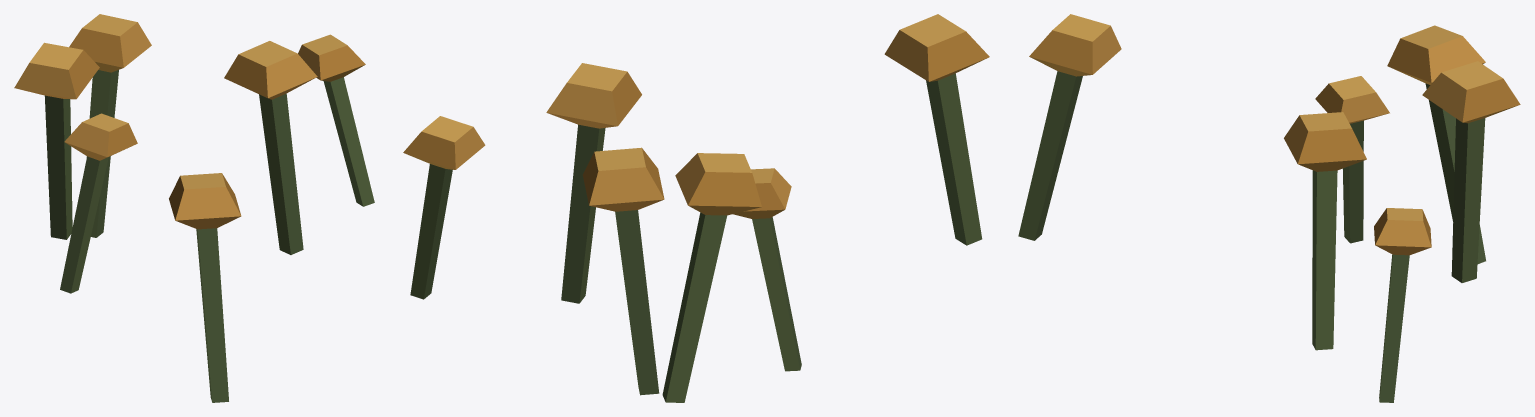
File: SF_Env_Elven_Flower_04.fbx
3 renders of one model, left to right at view 1: azimuth 30°, elevation 25°; view 2: azimuth 150°, elevation 25°; view 3: azimuth 270°, elevation 25°, orthographic. The views are drawn at different scales.
Parts seen in each view (by area): view 1: SF_Env_Elven_Flower_04; view 2: SF_Env_Elven_Flower_04; view 3: SF_Env_Elven_Flower_04.
Boxes of the visible parts, <box> form: SF_Env_Elven_Flower_04: <box>14,14,374,402</box>; SF_Env_Elven_Flower_04: <box>403,14,989,402</box>; SF_Env_Elven_Flower_04: <box>1018,14,1520,402</box>.
Bounding box in the file's own units: 2.38 × 1.32 × 2.77.
